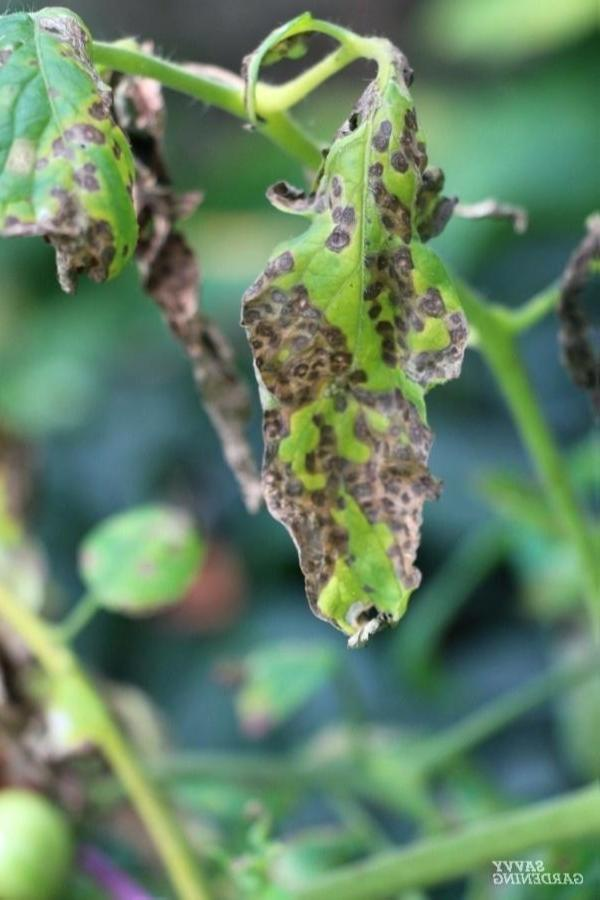Tomato leaf bacterial spot: (227, 64, 470, 660), (2, 13, 158, 299)
